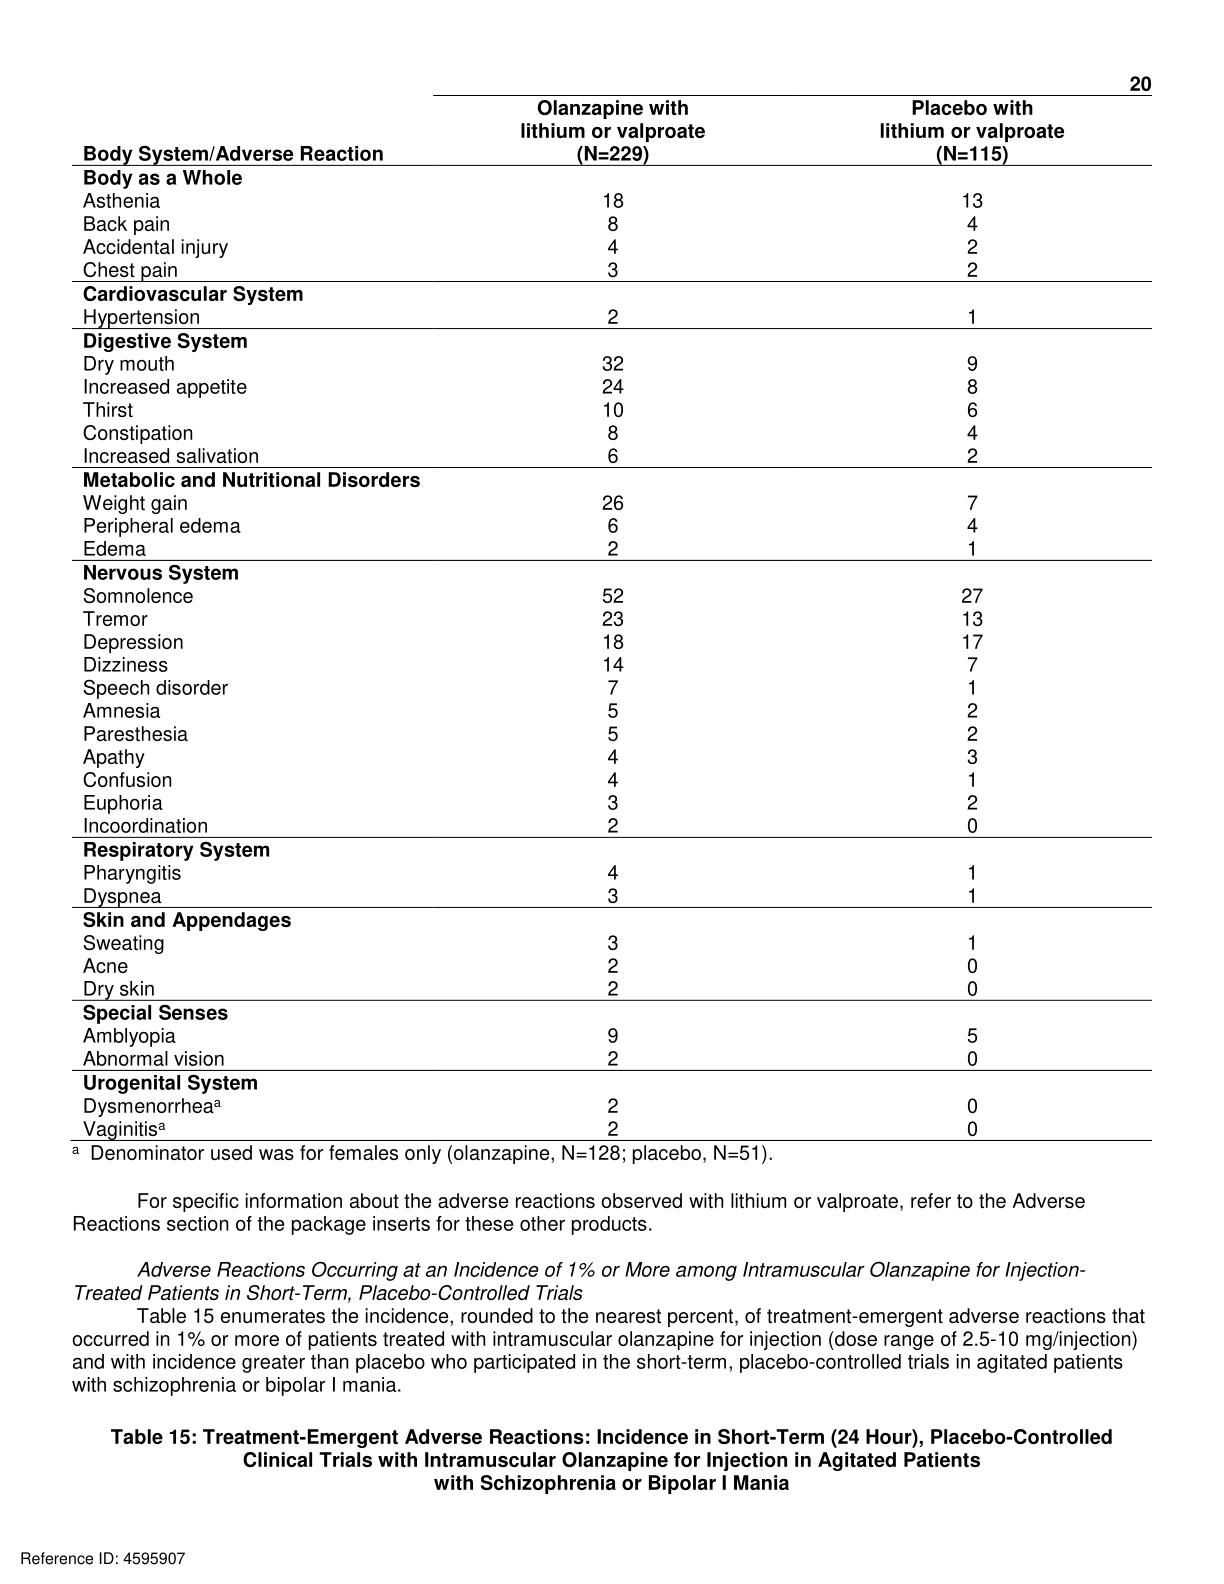partial_lined_merged_cells: (69, 94, 1152, 1142)
